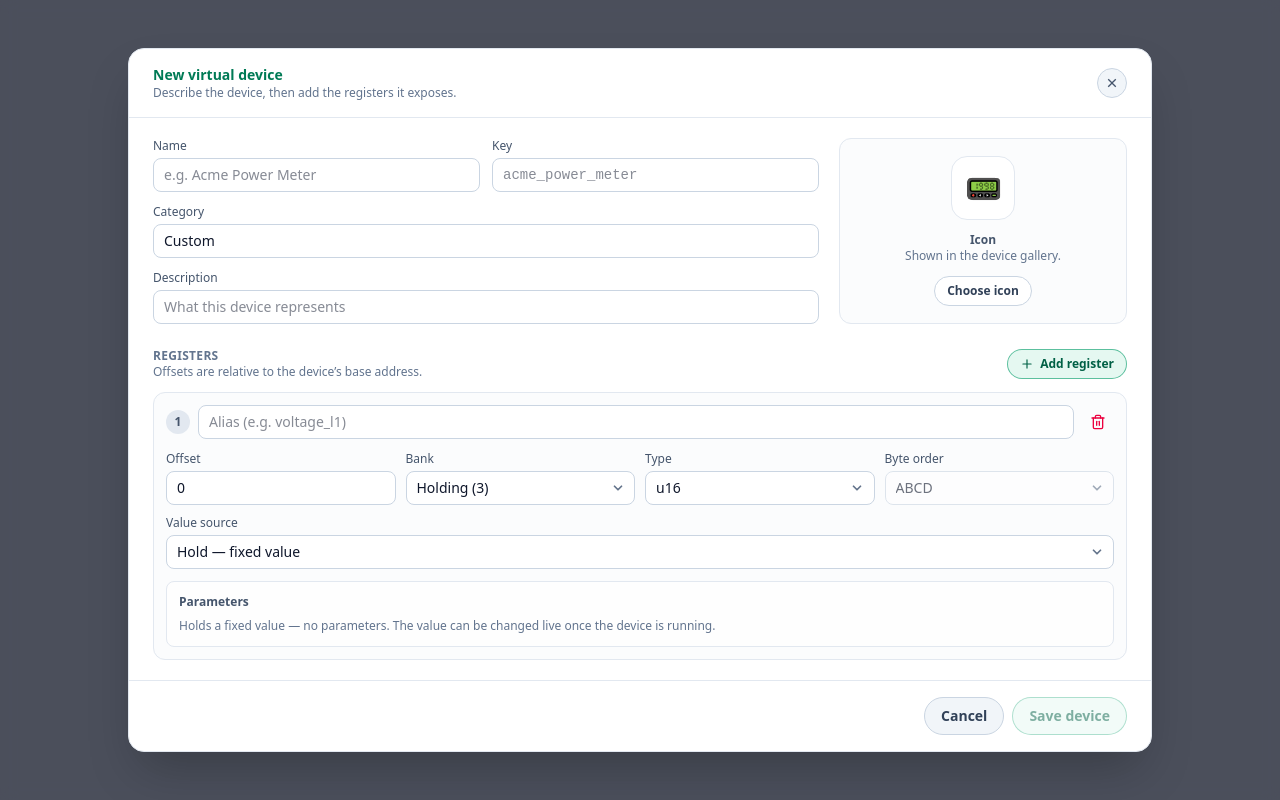
TemplateEditorModal › blocks Save until a key and name are present, and on a key clash
Check: the button "Save device" is disabled, box [1012,697,1127,735]
In the field named "template name": (316, 175) [153,158,480,192], type "New"
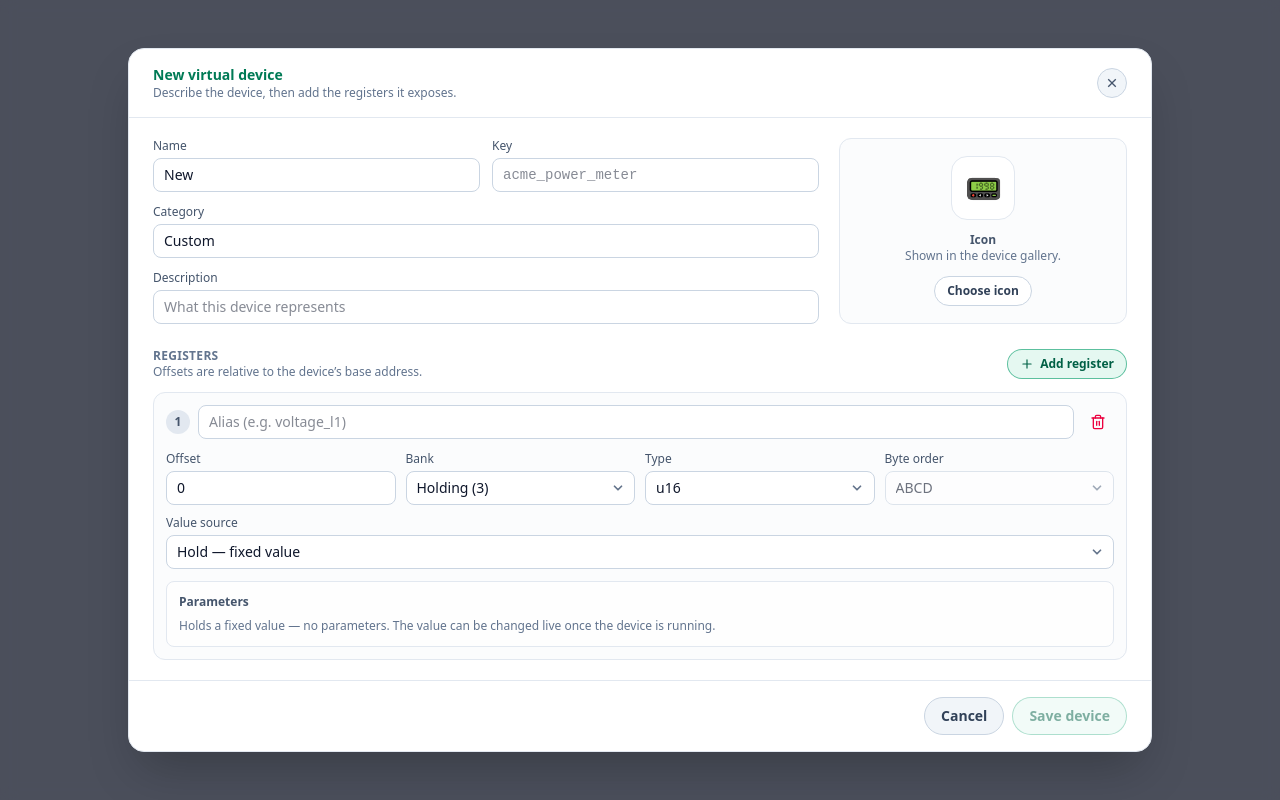
In the field named "template key": (656, 175) [492,158,819,192], type "taken_key"
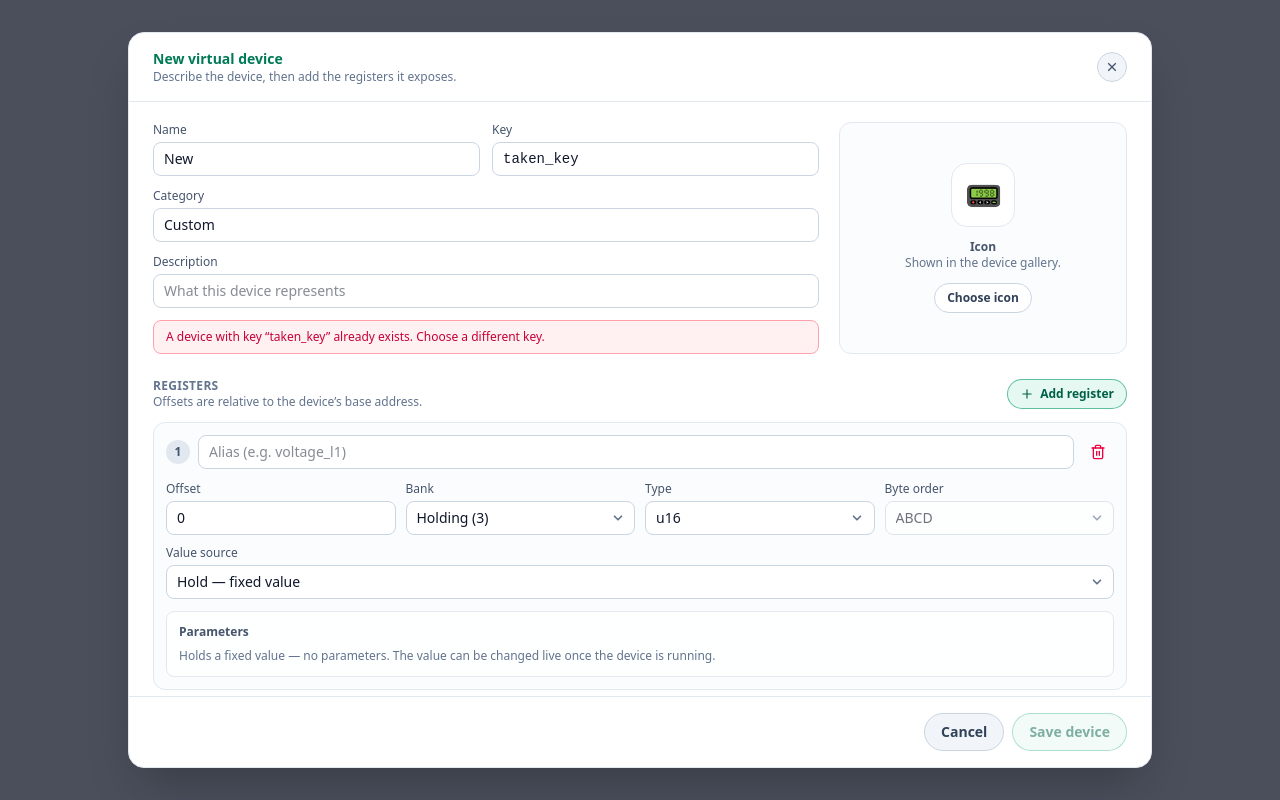
Check: the button "Save device" is disabled, box [1012,713,1127,751]
Check: the text "already exists" is shown, box [326,328,545,345]
Replace the text in the field named "template key" with "fresh_key": (656, 159) [492,142,819,176]
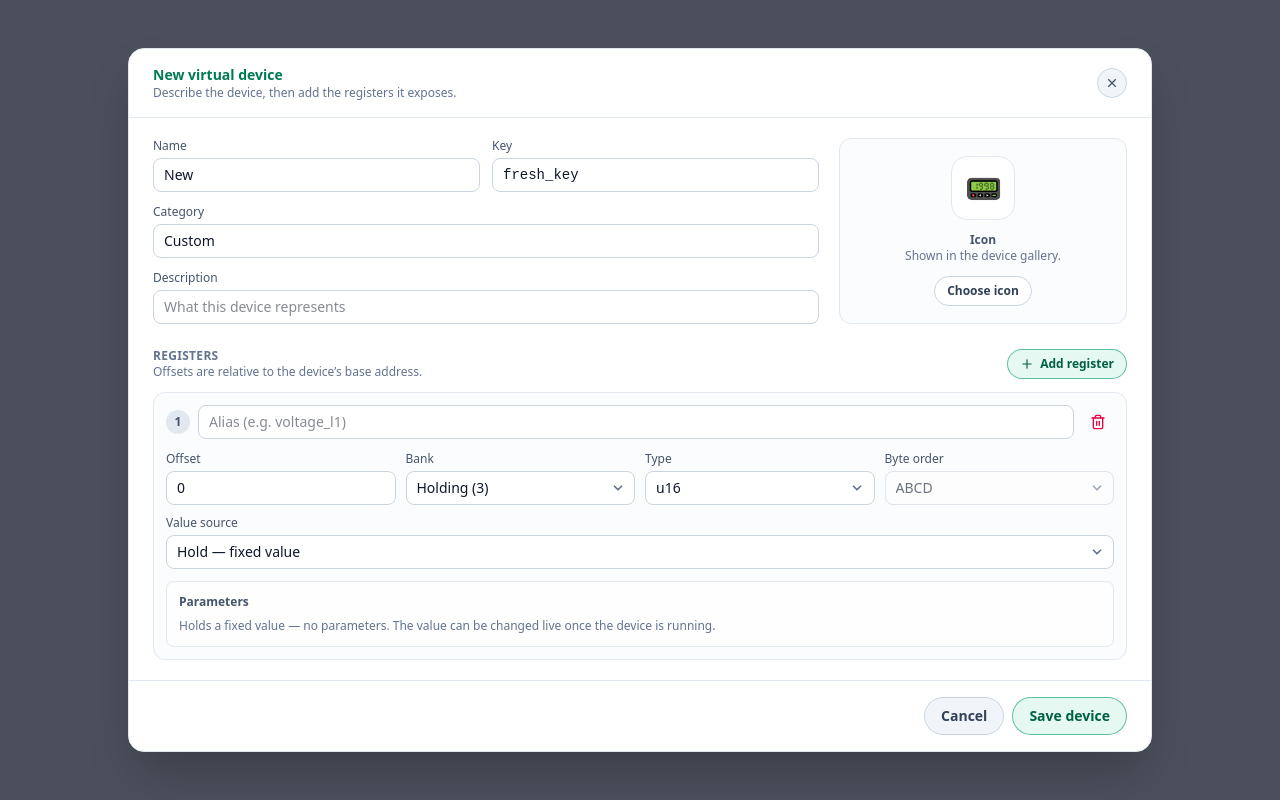
Check: the button "Save device" is enabled, box [1012,697,1127,735]
